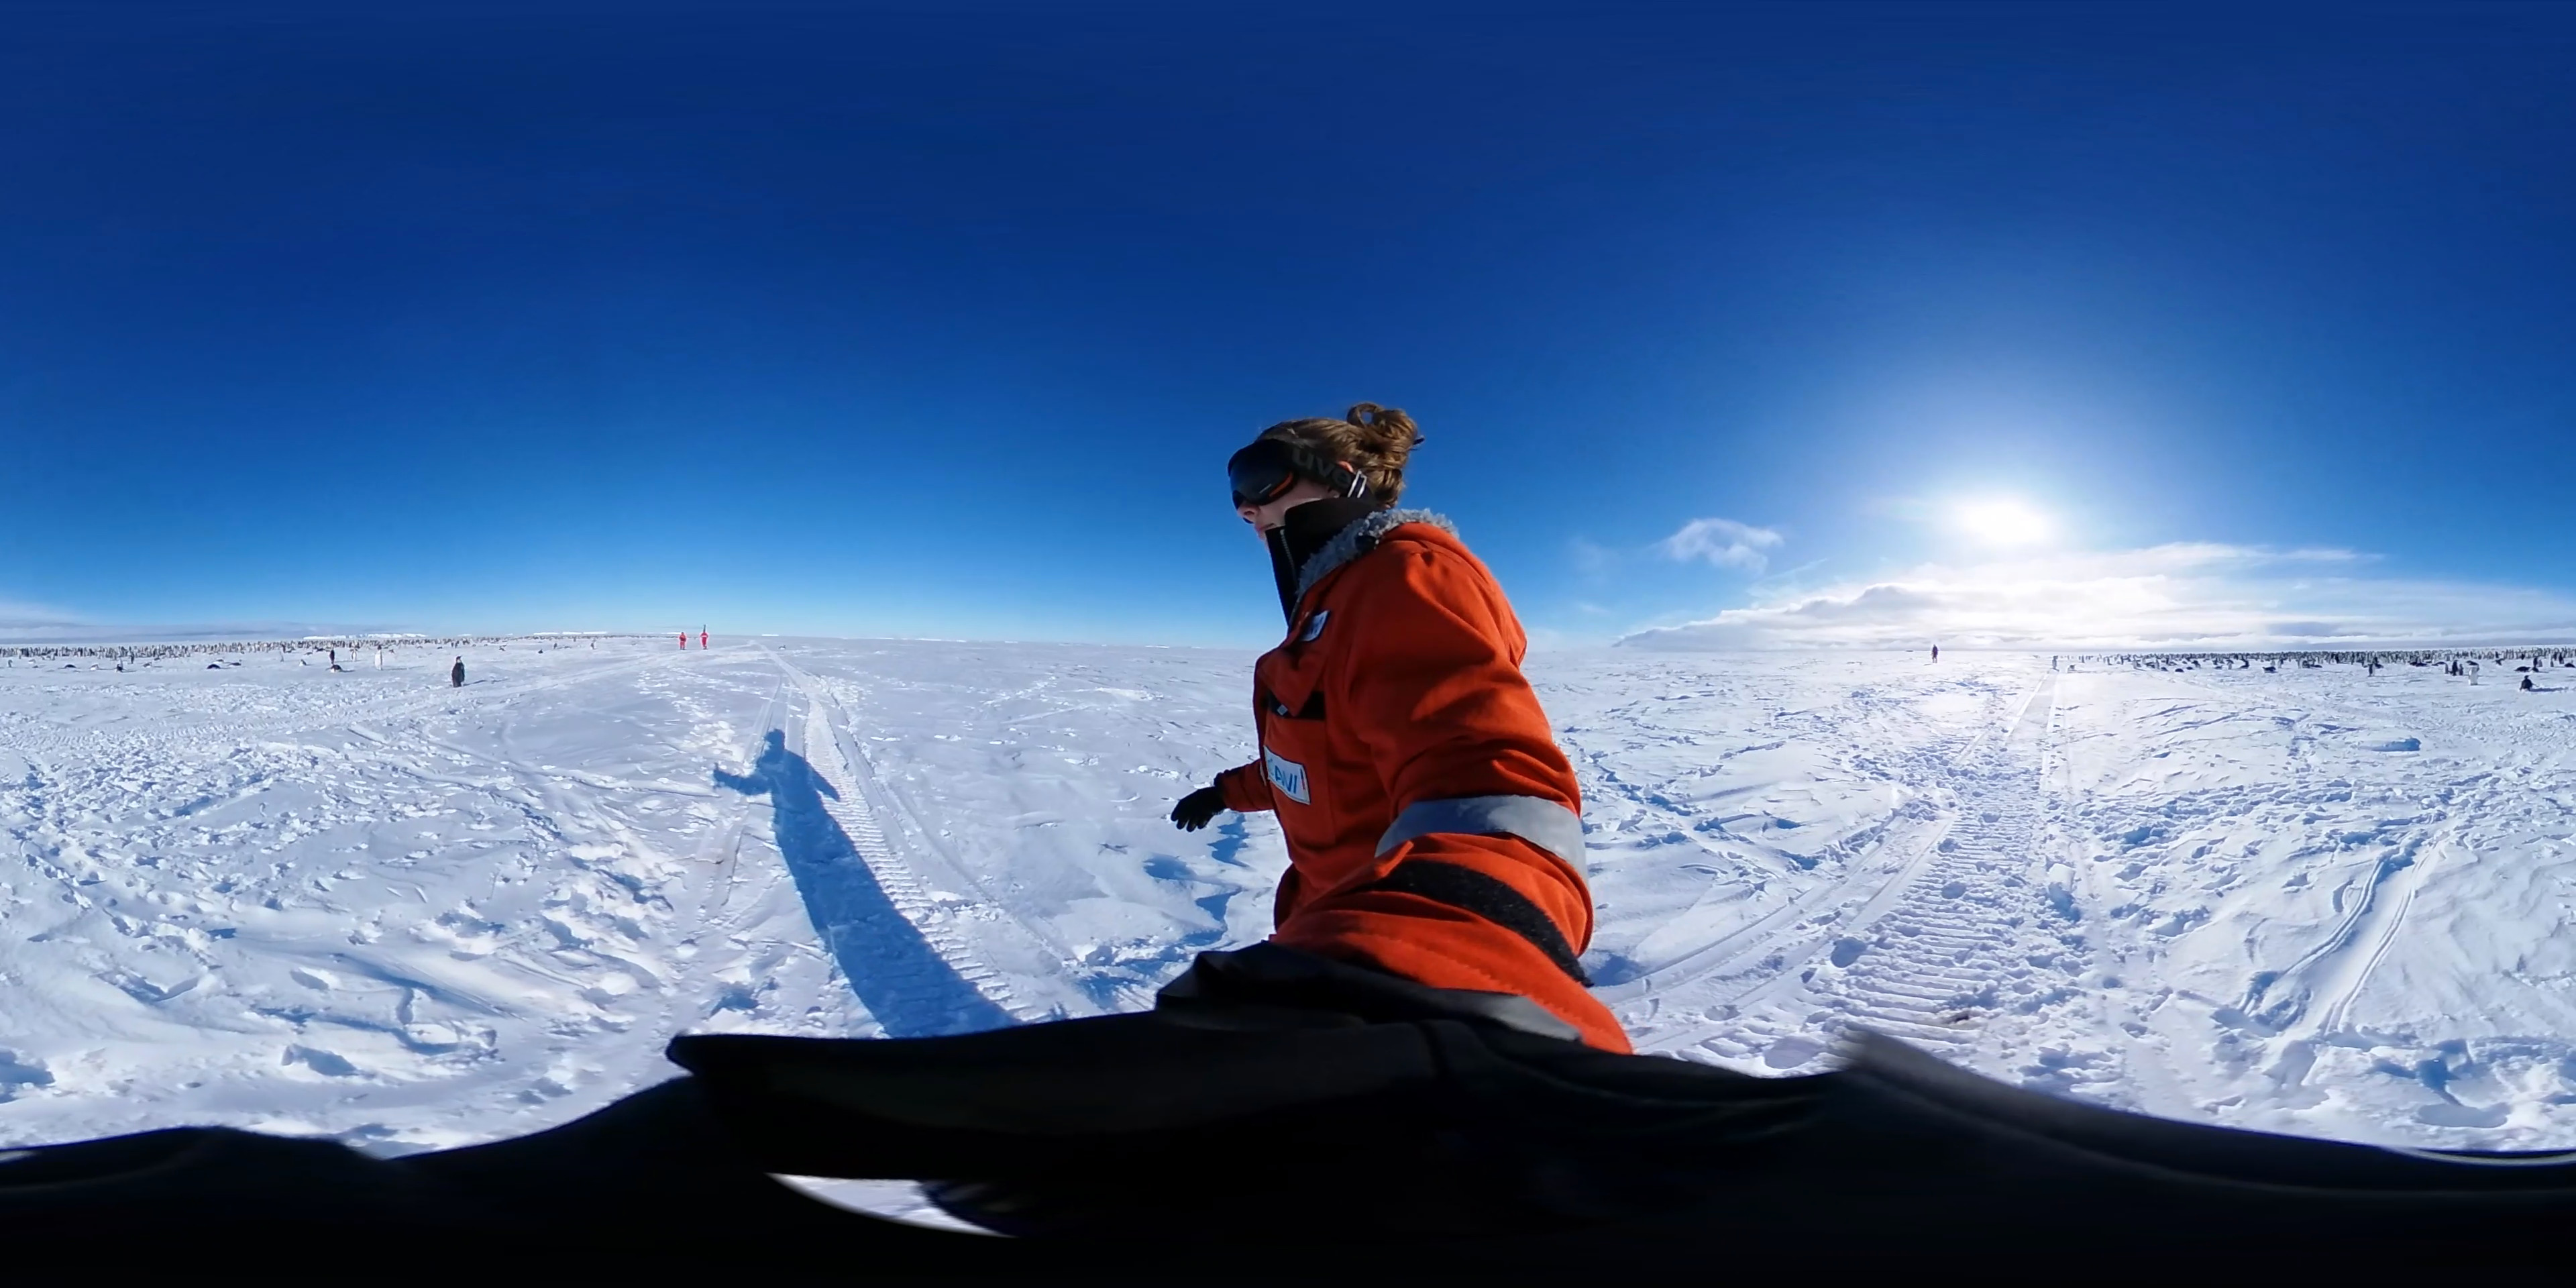adult_standing_penguin: (450, 655, 468, 690), (371, 642, 386, 674), (2464, 662, 2481, 688)
adult_toboggan_penguin: (322, 662, 347, 675), (2517, 675, 2538, 690)
researcher: (1227, 396, 1607, 1005), (698, 623, 713, 651), (674, 629, 690, 651), (1927, 641, 1942, 664)
